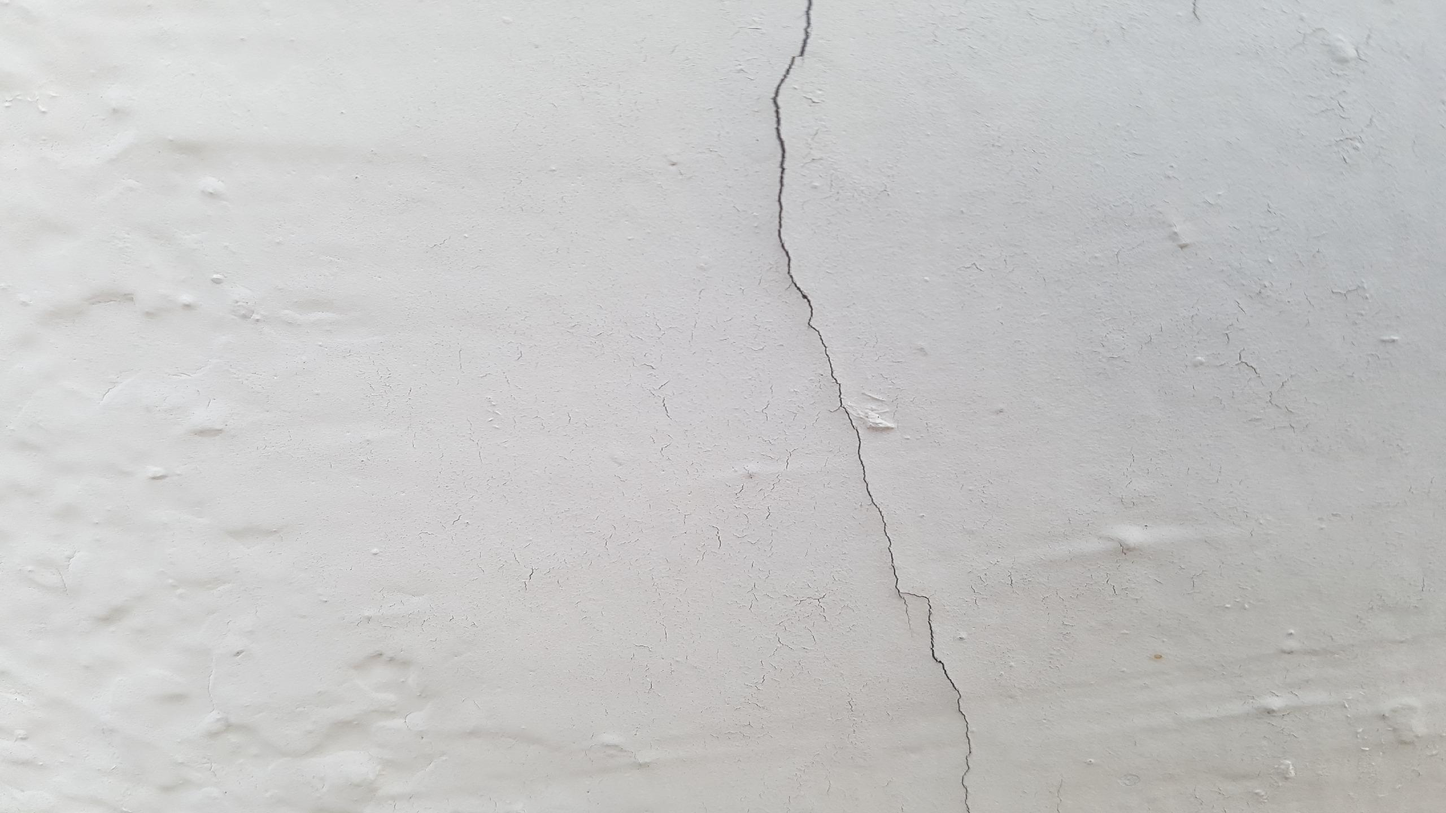crack: (770, 2, 973, 812)
